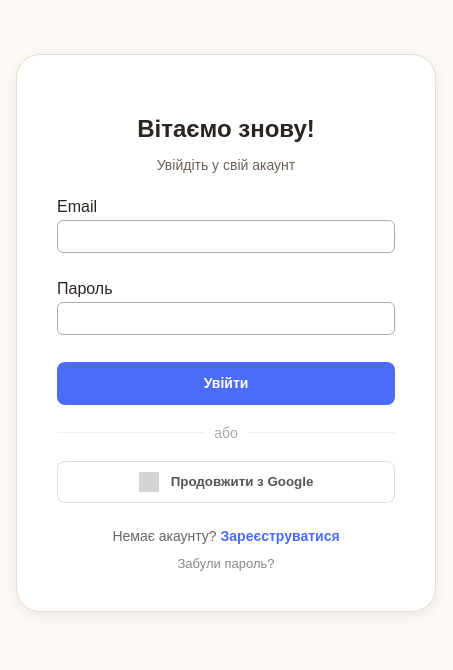
it: LoginPage › показує fallback помилку якщо error.message відсутній
Type "test@test.com" into the field labelled "Email".
click(226, 236); type("test@test.com")  # box [57,220,395,253]
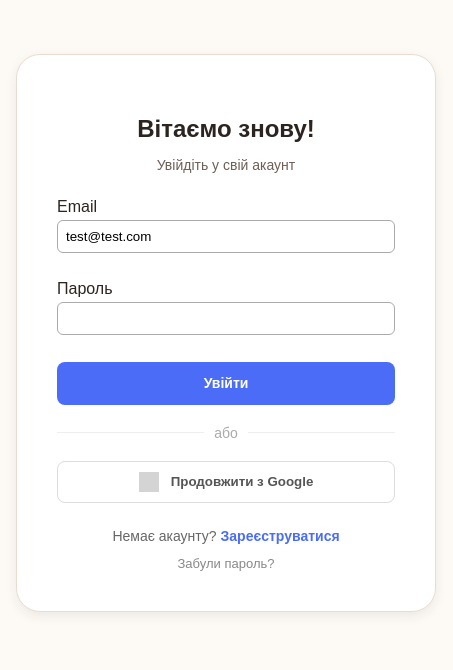
Type "password123" into the password field labelled "Пароль".
click(226, 318); type("password123")  # box [57,302,395,335]
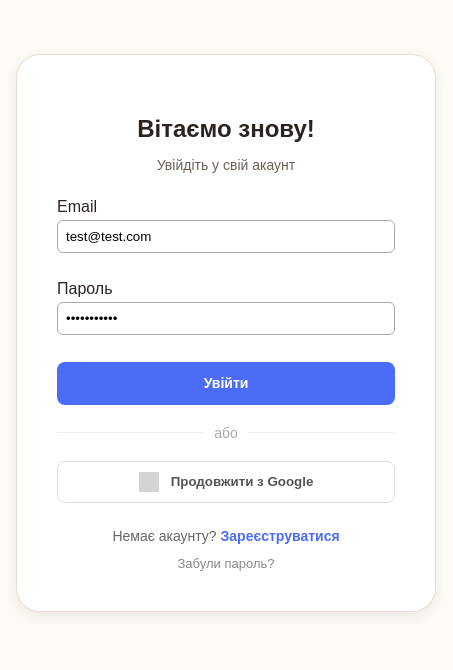
Click the button "Увійти".
click(226, 384)  # box [57,362,395,405]
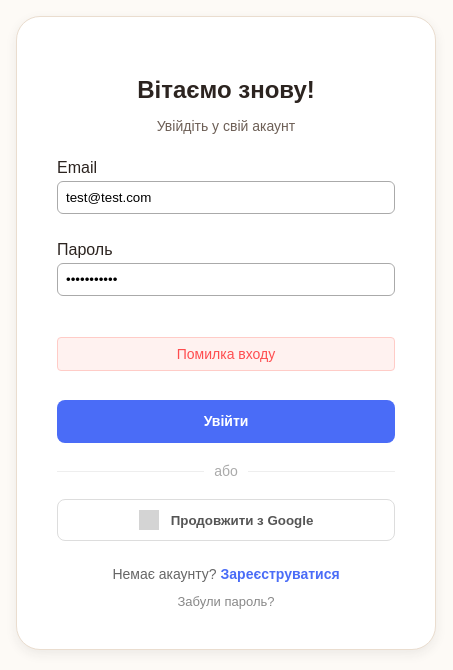
Expected: the text "Помилка входу" is shown, [57,338,395,372]
